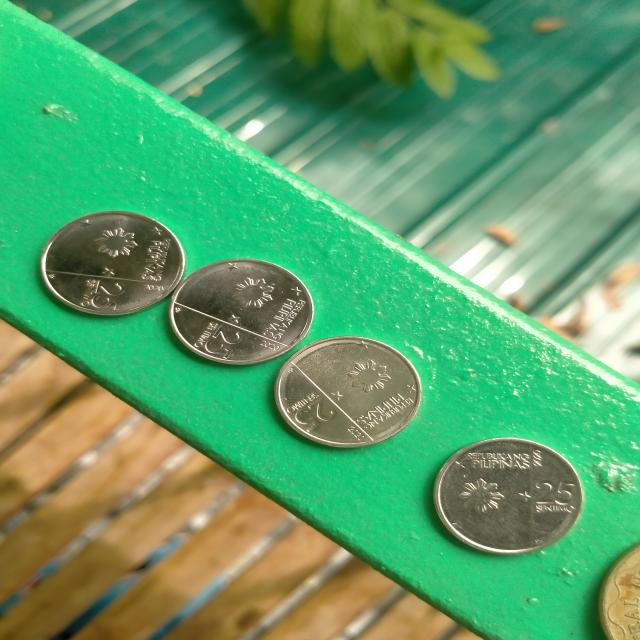25Cent_New_Front: (284, 357, 408, 438), (73, 222, 168, 316)
